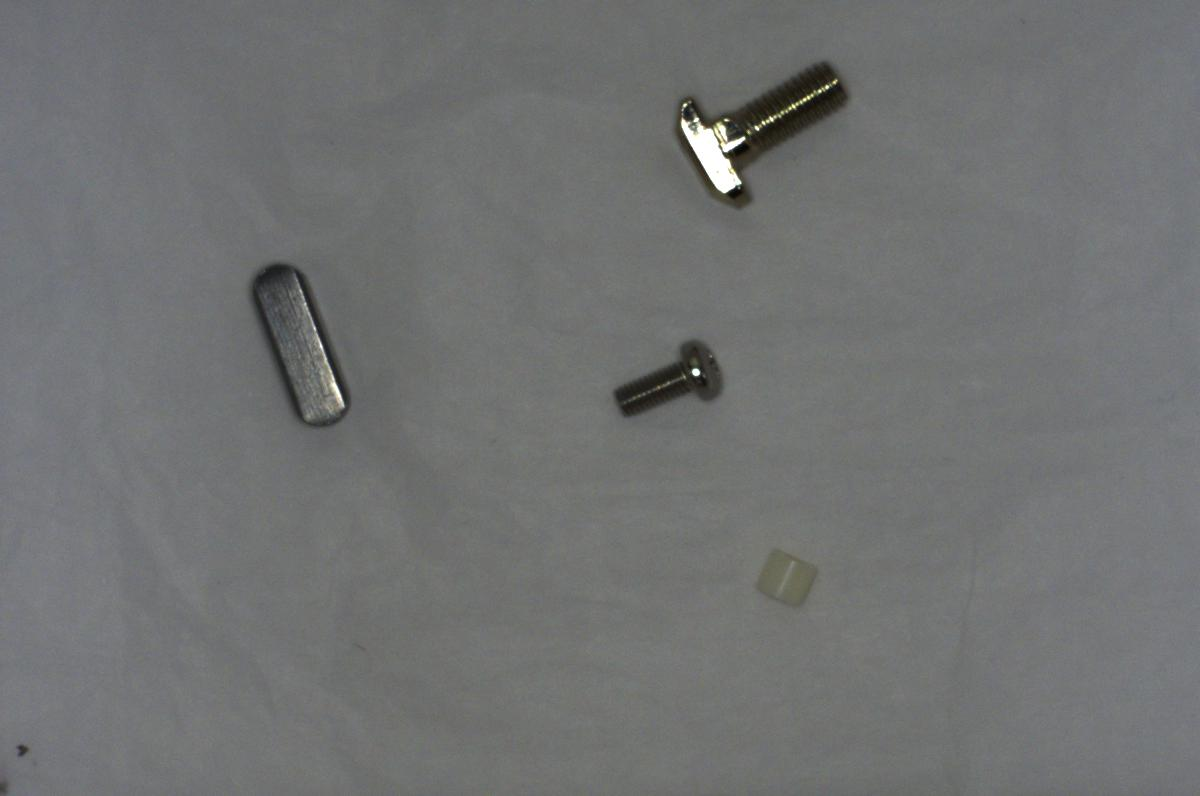Keybar: (244, 254, 355, 430)
Plastic cushion pillar: (748, 539, 827, 614)
Round head screw: (606, 329, 728, 428)
T-shaped screw: (665, 62, 854, 213)
